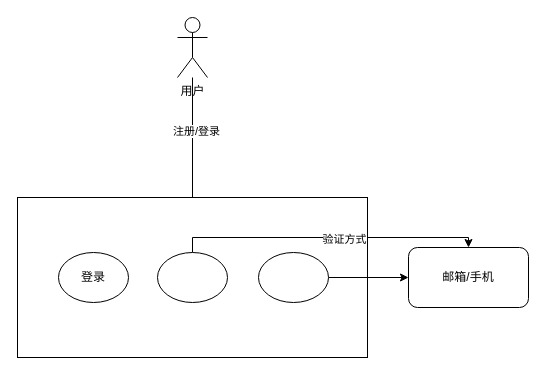
The diagram is 546 pixels wide and 375 high, and some of its shapes have lost their labels. Here are the shapes that lost their labels. From the top down, the centre of each, then its label:
At pixel 192 277: "注册".
At pixel 293 277: "重置密码".
